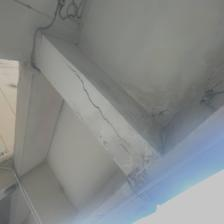High: (58, 53, 172, 213)
